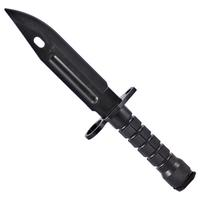knife: (2, 5, 195, 190)
